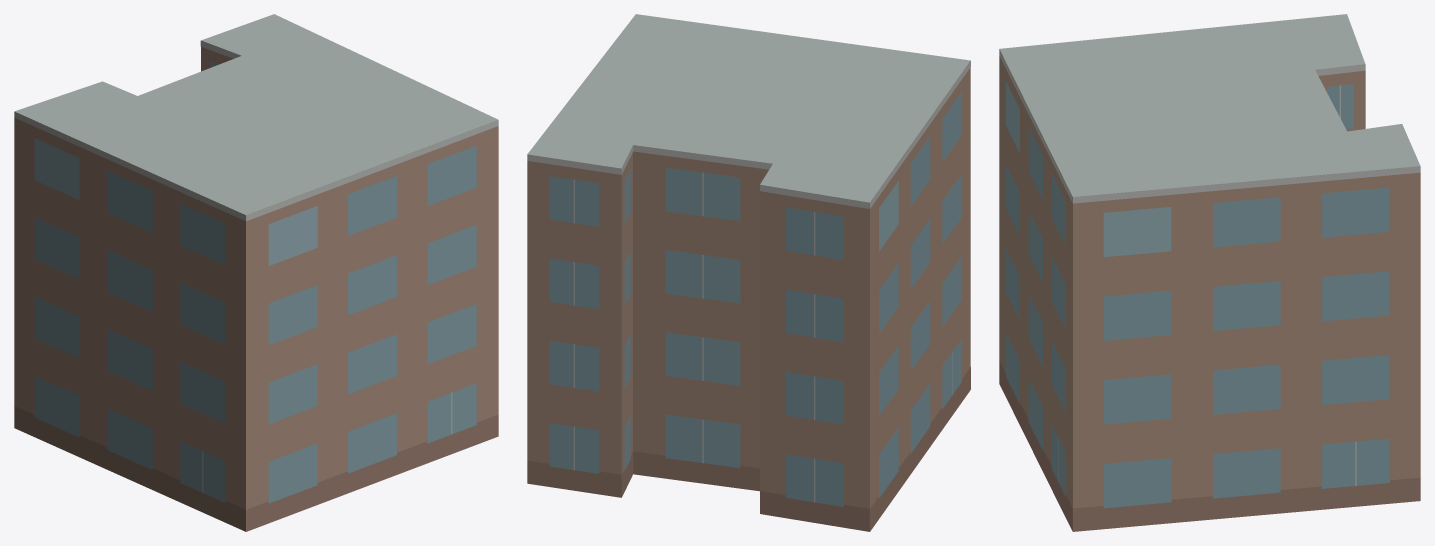
The model's file is survey-upis-32934440.glb.
3 renders of one model, left to right at view 1: azimuth 30°, elevation 25°; view 2: azimuth 150°, elevation 25°; view 3: azimuth 270°, elevation 25°, orthographic. The views are drawn at different scales.
Parts seen in each view (by area): view 1: survey-upis-32934440.tmp; view 2: survey-upis-32934440.tmp; view 3: survey-upis-32934440.tmp.
Boxes of the visible parts, x1,y1,x2,y2 form: survey-upis-32934440.tmp: (14,14,498,531); survey-upis-32934440.tmp: (527,14,970,531); survey-upis-32934440.tmp: (999,14,1420,531).
Size of the model in its own units: 14.73 by 12.55 by 14.32.
